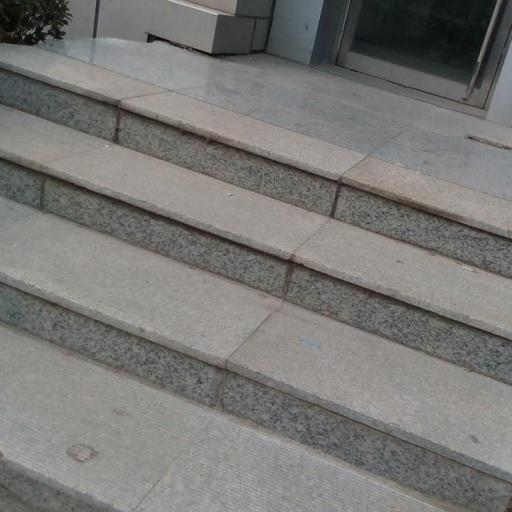stairs: (0, 46, 511, 511), (98, 0, 272, 53)
